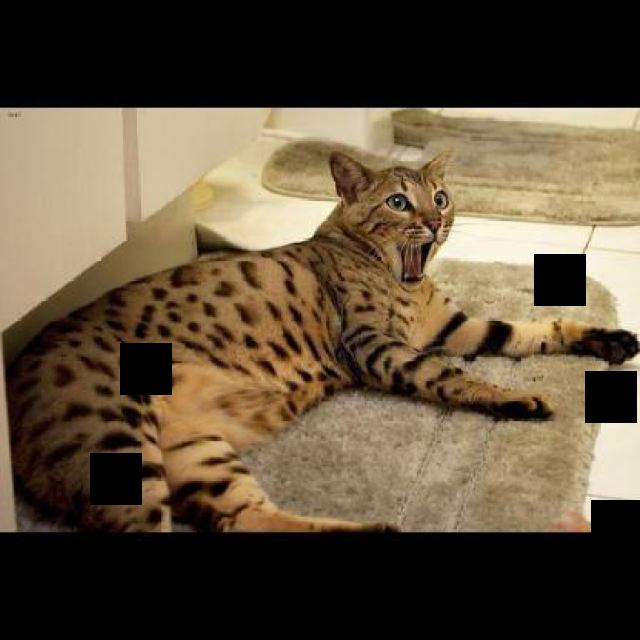unauthorized: (4, 143, 638, 532)
